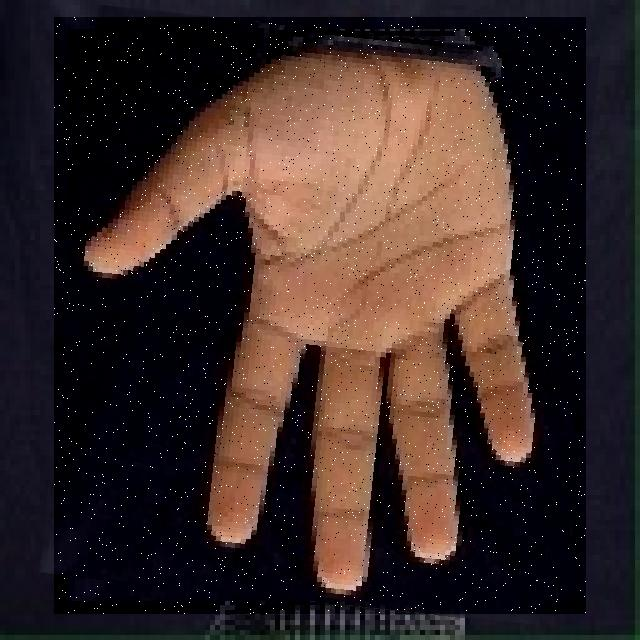Yes: (54, 17, 586, 614)
